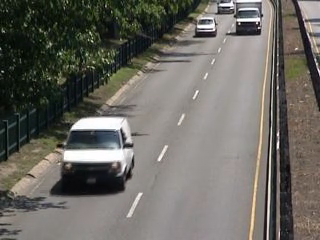car: (192, 15, 219, 40), (216, 1, 236, 17)
truck: (55, 114, 139, 191), (232, 1, 266, 37)
